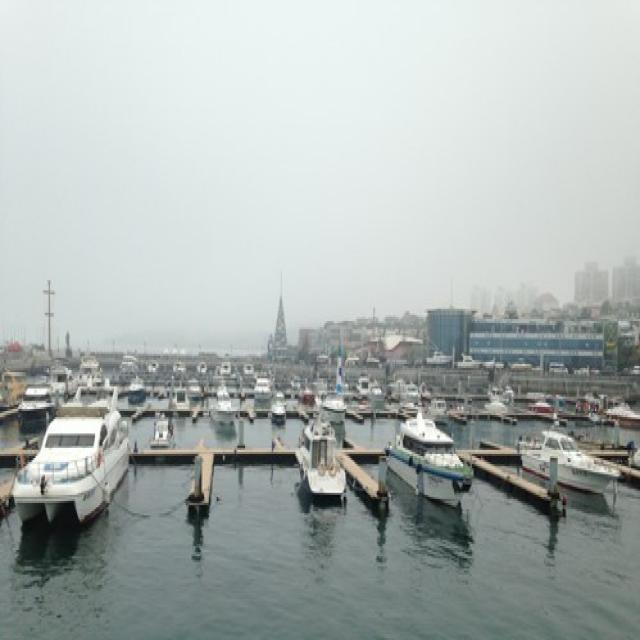houseboat: (18, 386, 130, 532), (385, 396, 480, 504), (508, 430, 623, 504), (301, 422, 350, 517)
